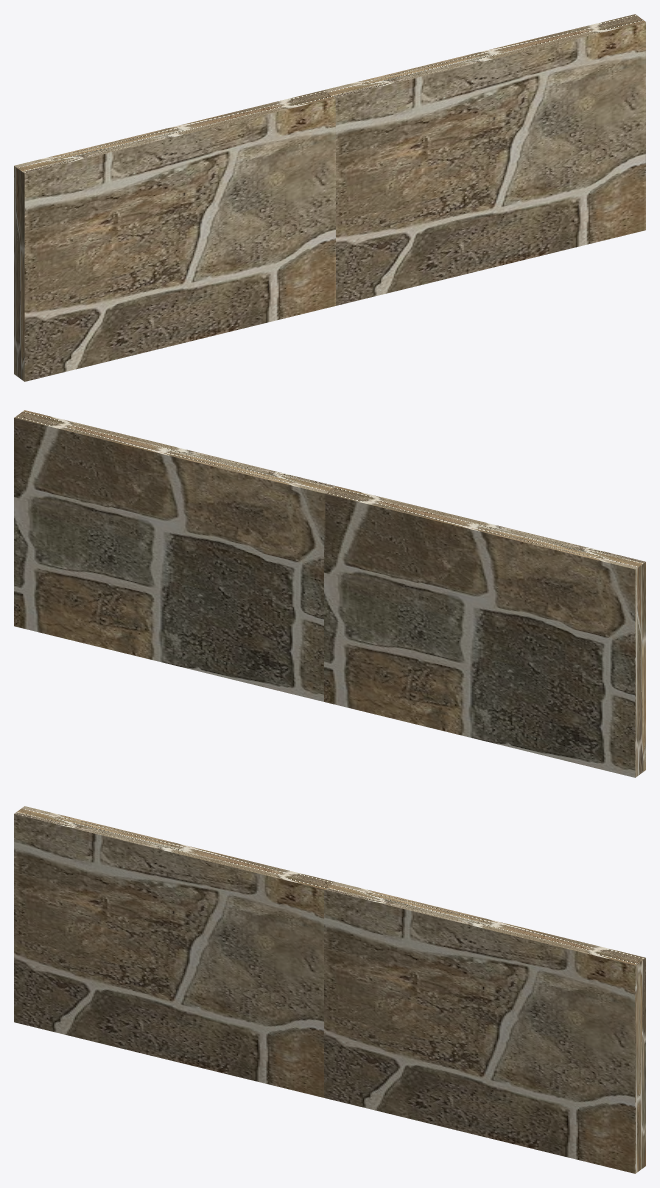
Rendered from wall.obj.
3 renders of one model, top to bottom at view 1: azimuth 30°, elevation 25°; view 2: azimuth 150°, elevation 25°; view 3: azimuth 330°, elevation 25°, orthographic.
Parts seen in each view (by area): view 1: Cube, Cube.001; view 2: Cube, Cube.001; view 3: Cube.001, Cube.
Boxes of the visible parts, bbox=[...] form: Cube: bbox=[14, 90, 335, 381]; Cube.001: bbox=[325, 14, 645, 305]; Cube: bbox=[324, 486, 645, 777]; Cube.001: bbox=[14, 410, 335, 701]; Cube.001: bbox=[324, 881, 645, 1173]; Cube: bbox=[14, 806, 334, 1097].
Bounding box in the file's own units: 13.51 × 4.33 × 0.4008.
Materials: 1 (1 with a texture image).
